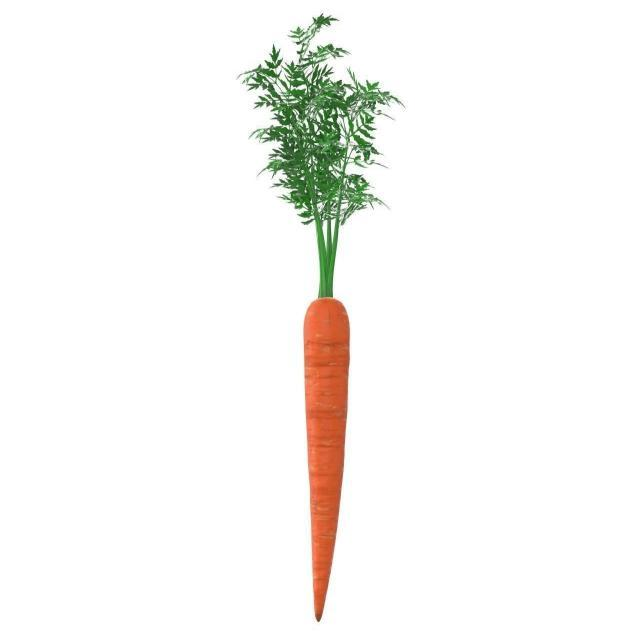carrot: (295, 286, 356, 626)
